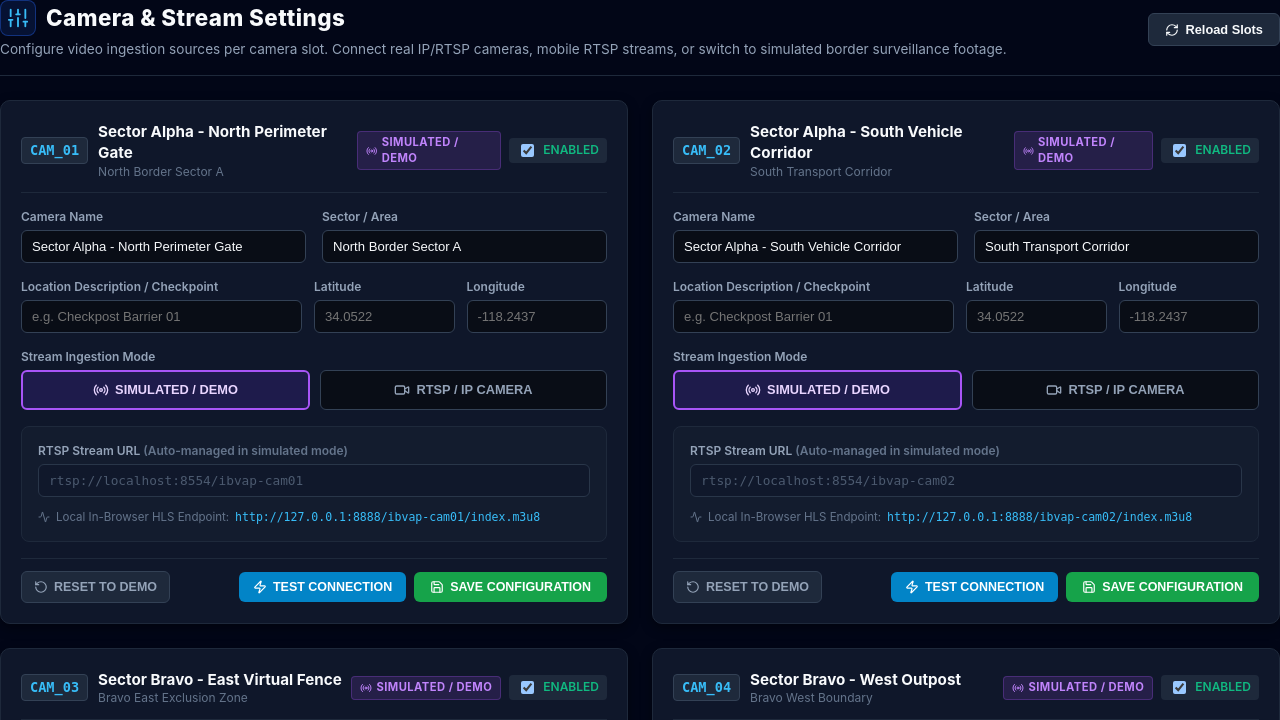
Test: CameraSettingsPage Component › allows switching between SIMULATED / DEMO and RTSP / IP CAMERA modes
Click RTSP button for CAM_01
Click the button "RTSP / IP CAMERA" below "North Border Sector A" at (464, 390), box left=320, top=370, right=607, bottom=410
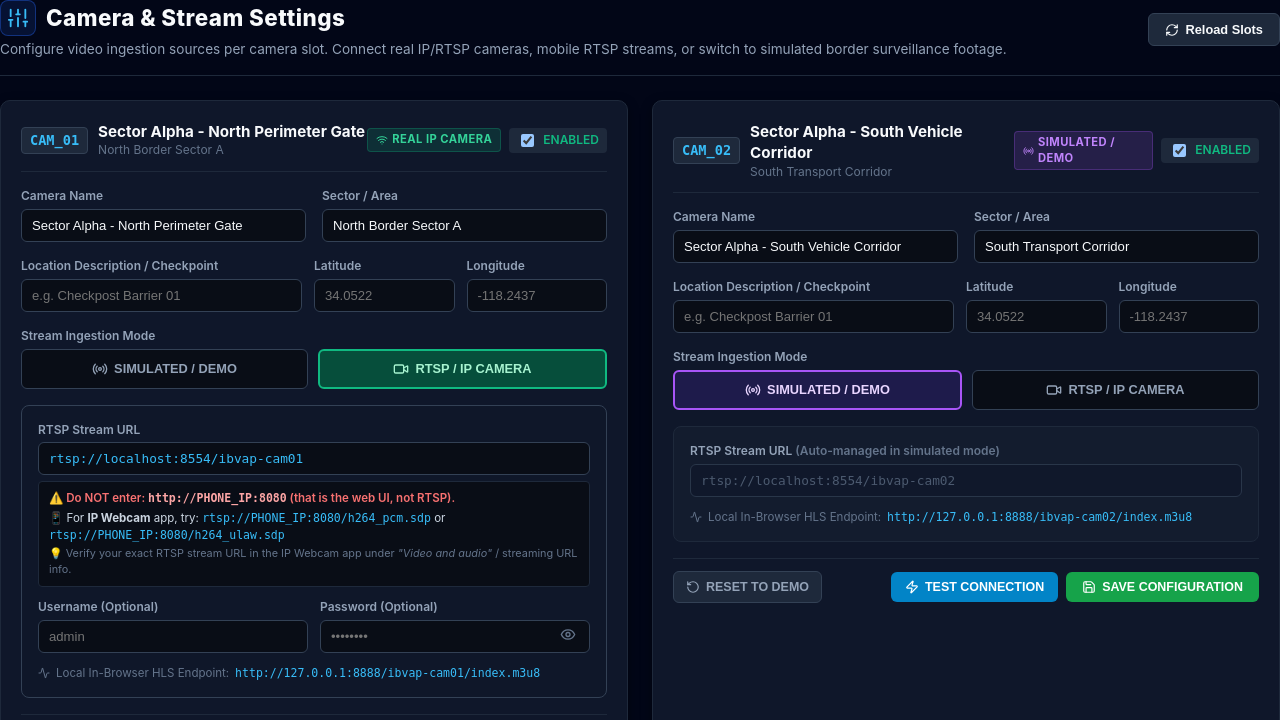
Check: the field with placeholder "admin" is shown, box left=38, top=620, right=308, bottom=653
Check: the password field with placeholder "••••••••" is shown, box left=320, top=620, right=590, bottom=653
